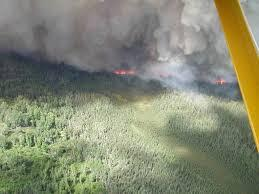smoke: (1, 0, 225, 74)
